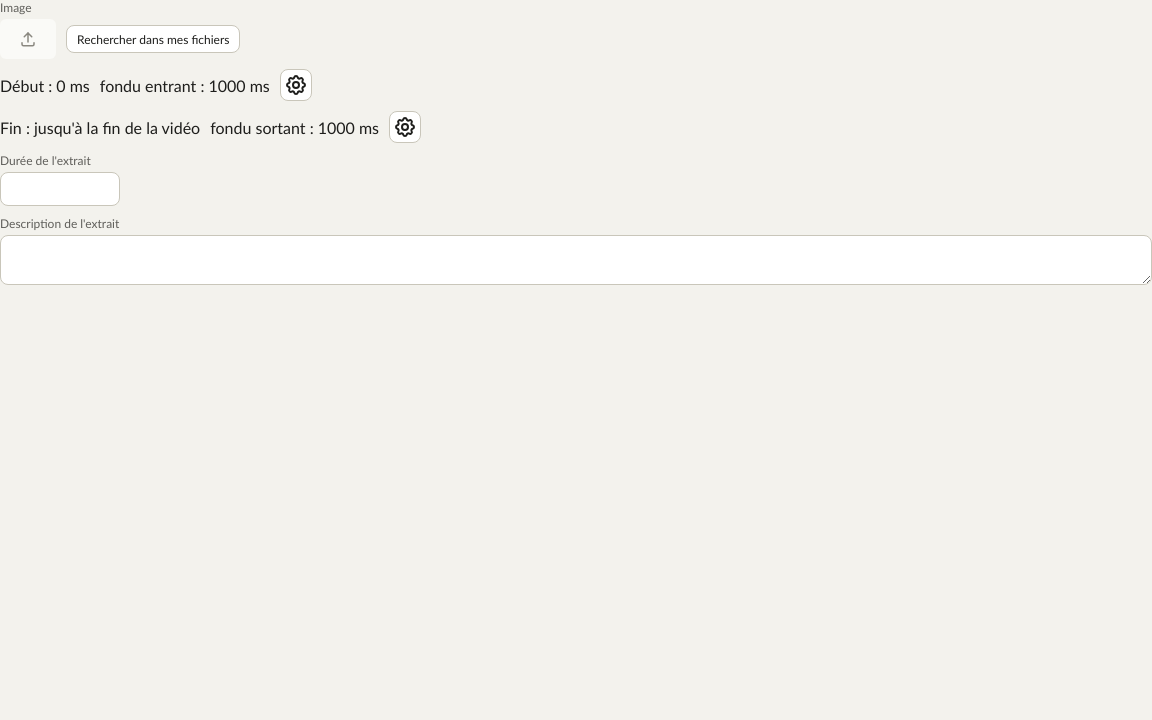
Test: DubbingVideoStep component › opens the end offset popin when its gear button is clicked
Click the button named "Configurer la fin de l'extrait" at (405, 127), box left=389, top=111, right=421, bottom=143
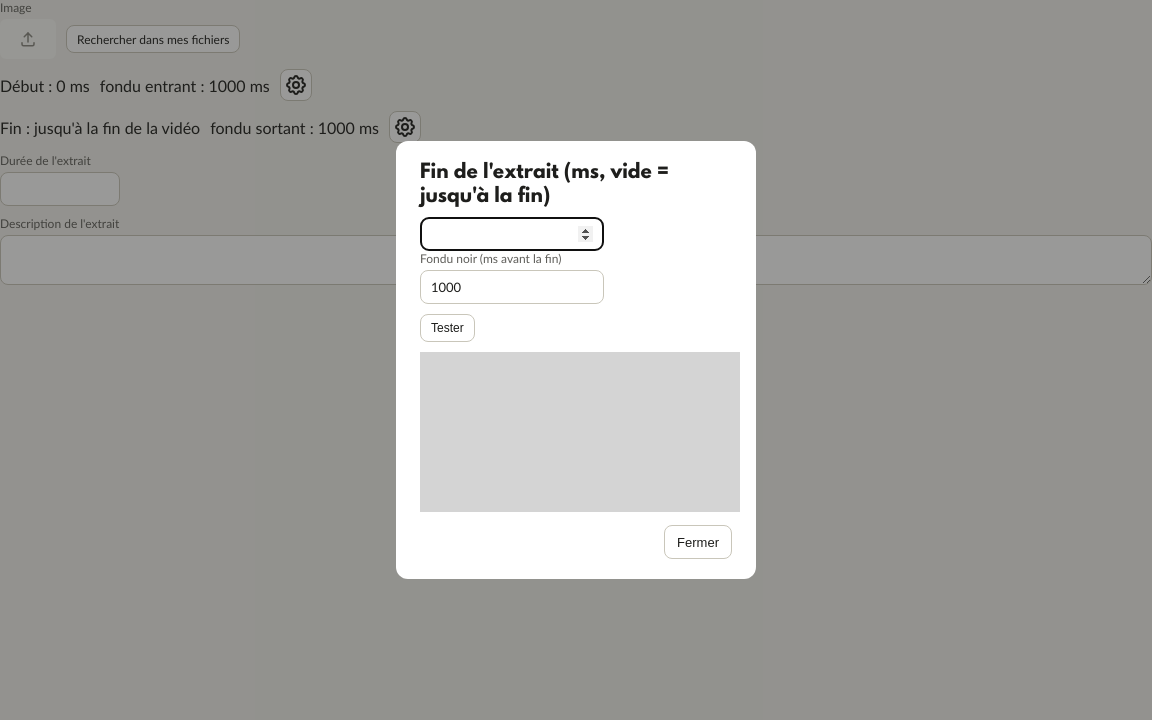
expect the dialog is shown: met, box left=396, top=141, right=756, bottom=579
expect the number field named "endOffsetMs" is shown: met, box left=420, top=217, right=604, bottom=251
